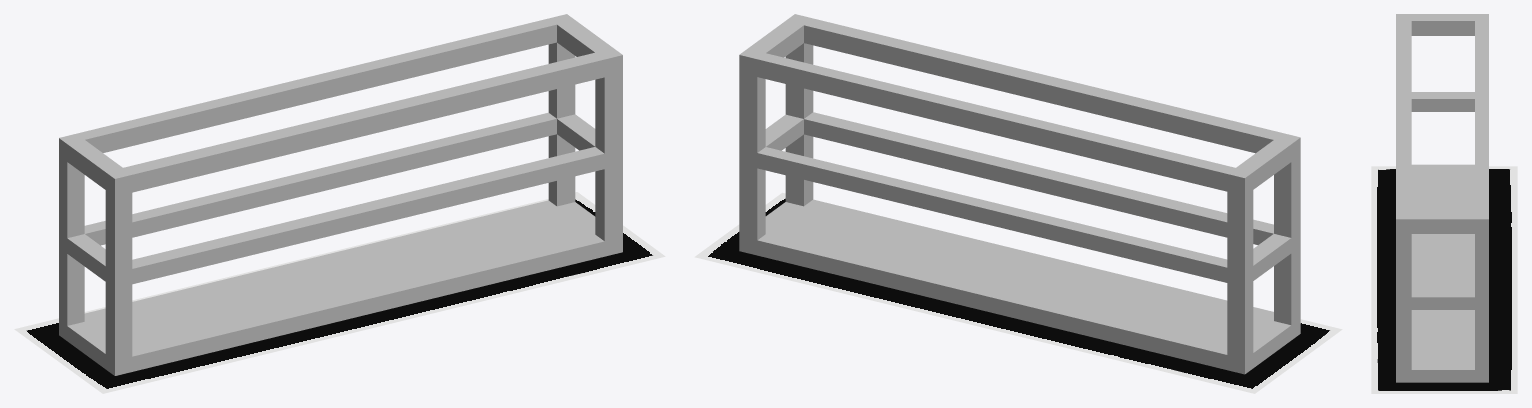
File: PlantRack.FBX
3 renders of one model, left to right at view 1: azimuth 30°, elevation 25°; view 2: azimuth 150°, elevation 25°; view 3: azimuth 270°, elevation 25°, orthographic. The views are drawn at different scales.
Parts seen in each view (by area): view 1: PlantRack, ShadowFrame; view 2: PlantRack, ShadowFrame; view 3: PlantRack, ShadowFrame.
Part boxes in pixels (x1,y1,x2,y2): PlantRack: (59, 14, 622, 375); ShadowFrame: (14, 192, 665, 393); PlantRack: (739, 14, 1300, 374); ShadowFrame: (694, 192, 1342, 393); PlantRack: (1396, 14, 1488, 382); ShadowFrame: (1371, 166, 1517, 393).
Bounding box in the file's own units: 21.67 × 7.25 × 5.9.
